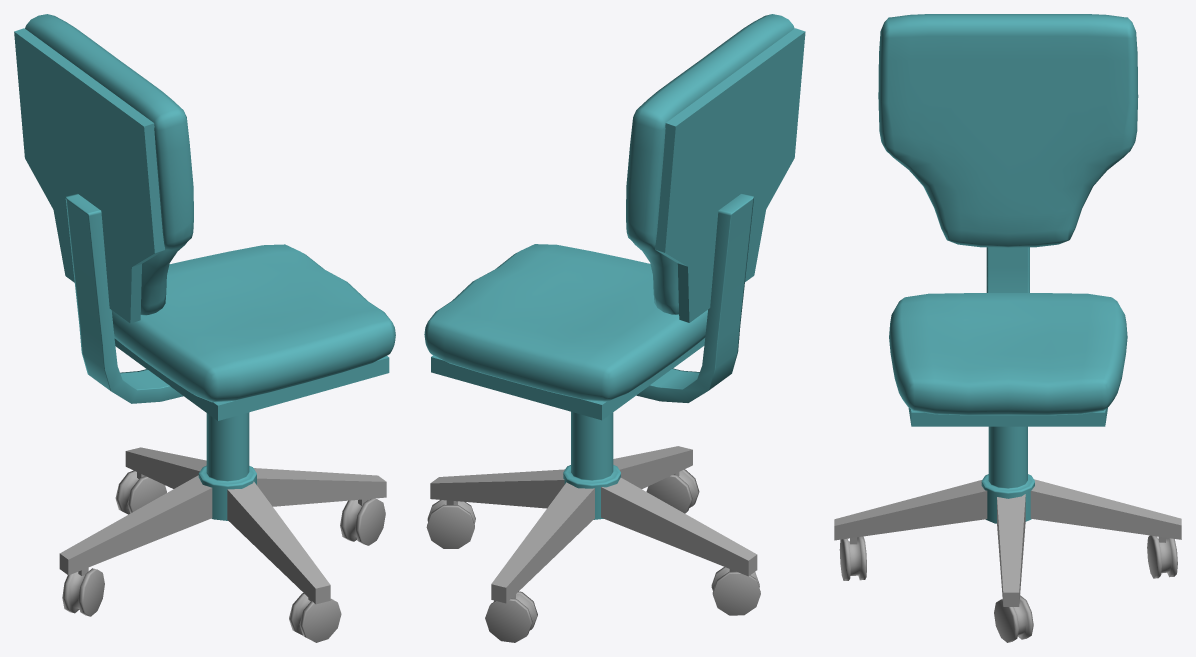
File: WorkChair.fbx
3 renders of one model, left to right at view 1: azimuth 30°, elevation 25°; view 2: azimuth 150°, elevation 25°; view 3: azimuth 270°, elevation 25°, orthographic. The views are drawn at different scales.
Parts seen in each view (by area): view 1: polySurface216; view 2: polySurface216; view 3: polySurface216.
Part boxes in pixels (left/top/right/bottom): polySurface216: left=14, top=14, right=395, bottom=642; polySurface216: left=424, top=14, right=805, bottom=642; polySurface216: left=834, top=14, right=1181, bottom=642.
Size of the model in its own units: 79.99 by 127 by 79.48.
